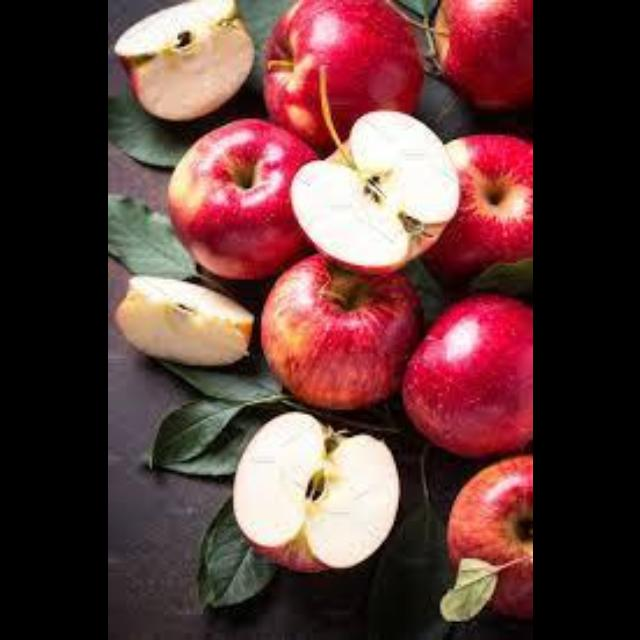apple: (291, 112, 458, 272), (235, 412, 398, 570), (261, 254, 419, 407), (263, 0, 421, 151), (170, 119, 314, 277), (400, 293, 531, 456), (114, 0, 251, 119), (426, 135, 531, 282), (440, 456, 531, 619), (114, 277, 251, 365), (435, 0, 531, 109)
